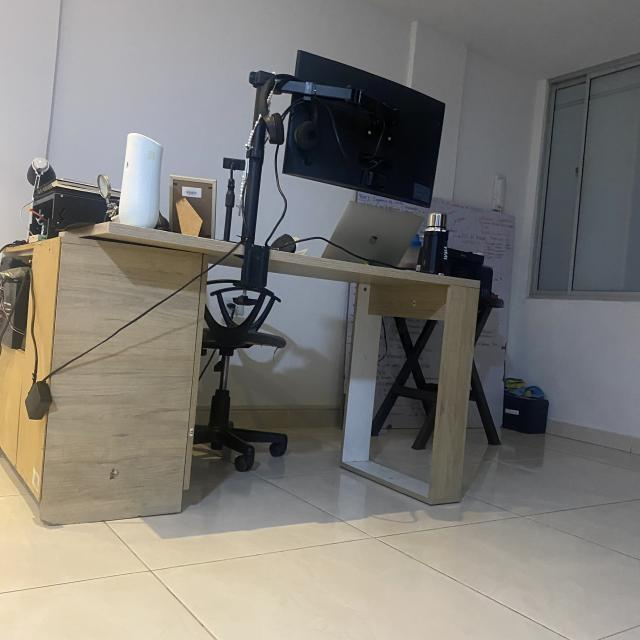obstacle: (4, 182, 516, 539)
